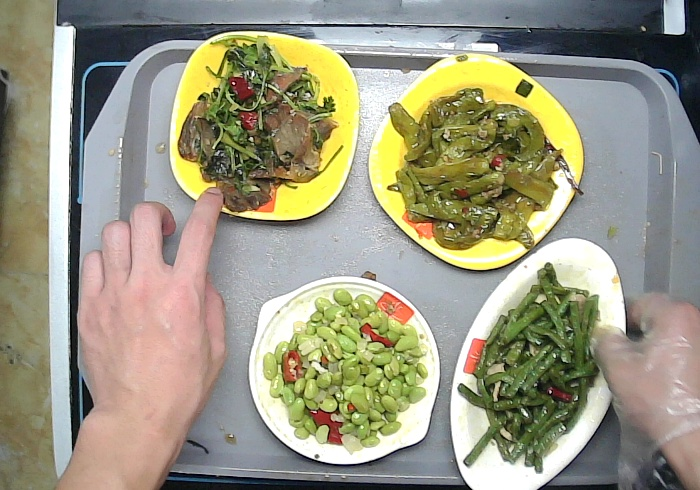SHKJ-Bao_Yu_Pan: (243, 273, 443, 469)
SHKJ-Huang_Se_Cai_Die: (167, 27, 367, 227)
SHKJ-Huang_Se_Si_Fang_Cai_Die: (363, 50, 588, 274)
SHKJ-Yu_Pan: (446, 234, 633, 490)
